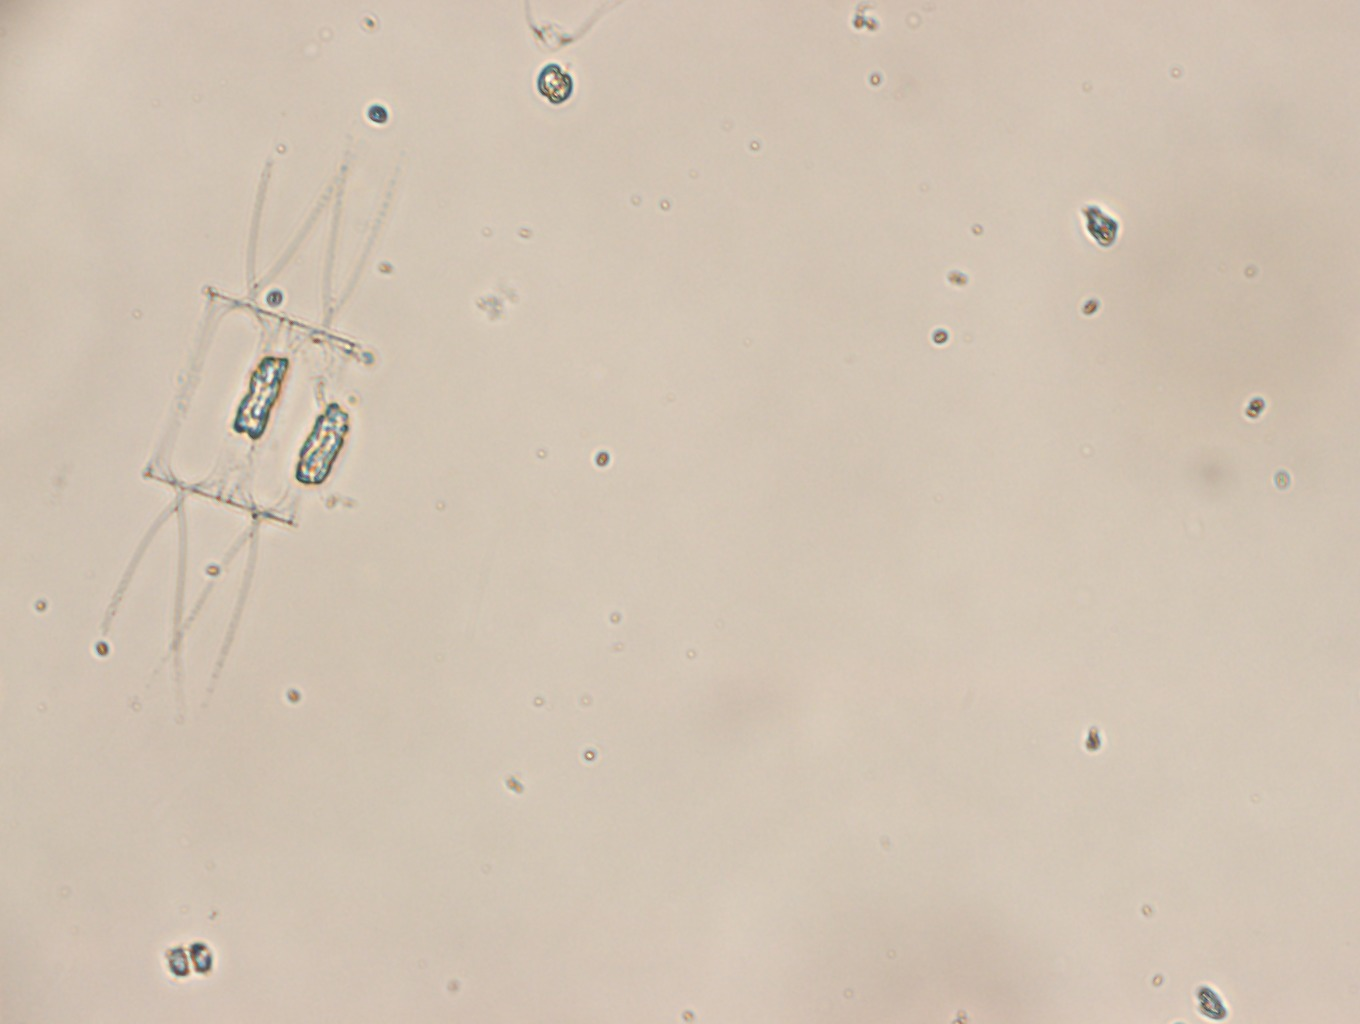chaetoceros: (94, 150, 405, 713)
